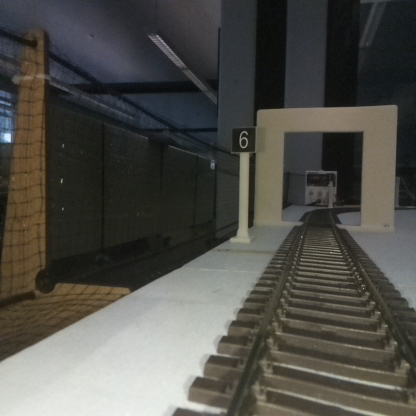black-info-6: (231, 127, 255, 242)
